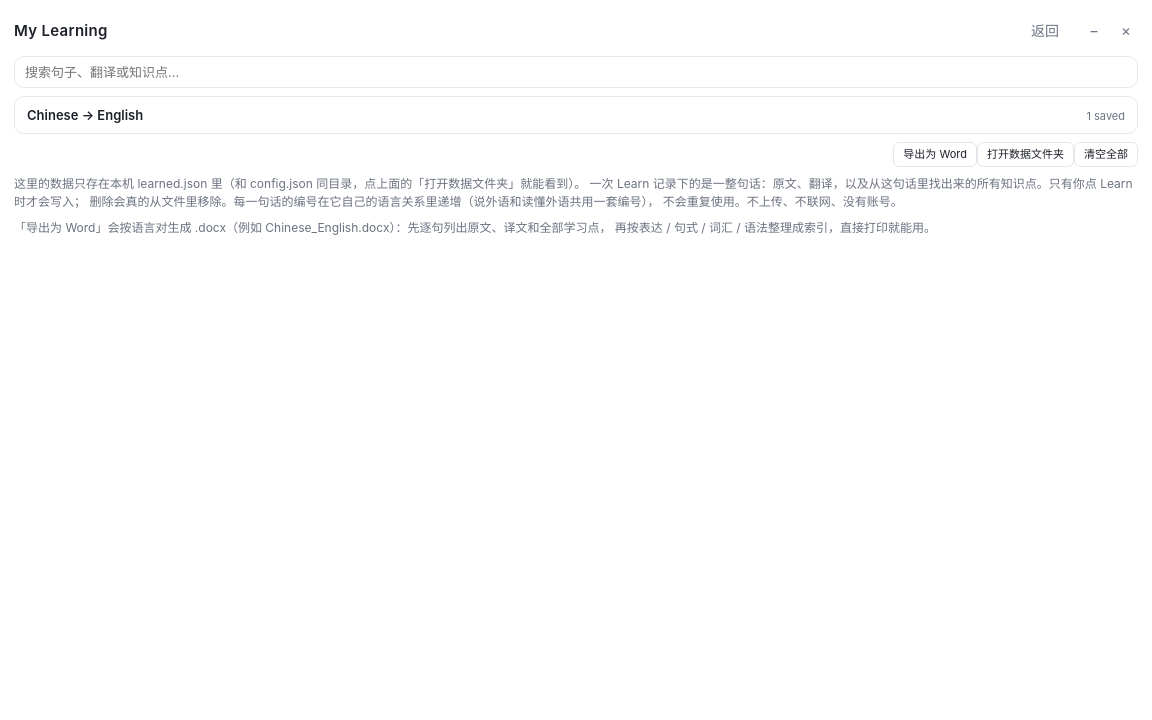
Scenario: MyLanguagePage: one pair › lets a long sentence be opened up without hiding anything for good
Expected: the text "Chinese → English" is shown, [27,107,143,123]
Click the button "Chinese → English 1 saved" at (85, 115), box [14,96,1138,134]
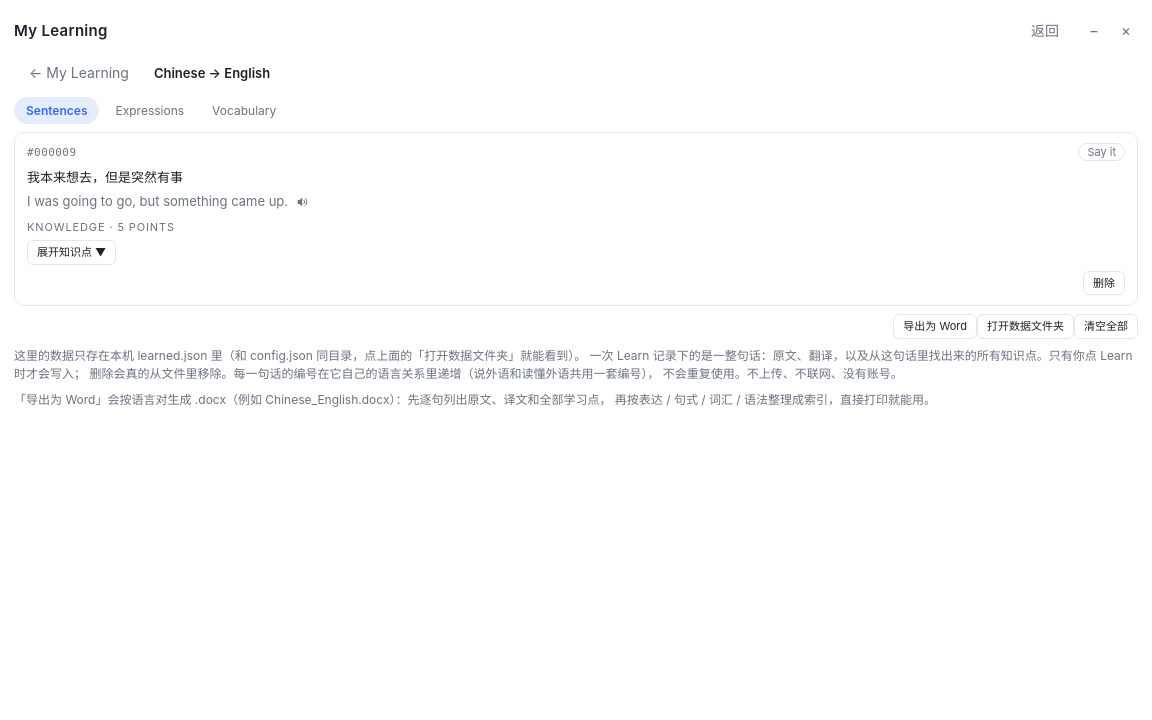
Expected: the text "KNOWLEDGE · 5 points" is shown, [27,220,175,234]
Click the button "展开知识点 ▼" at (72, 252), box [27,240,116,265]
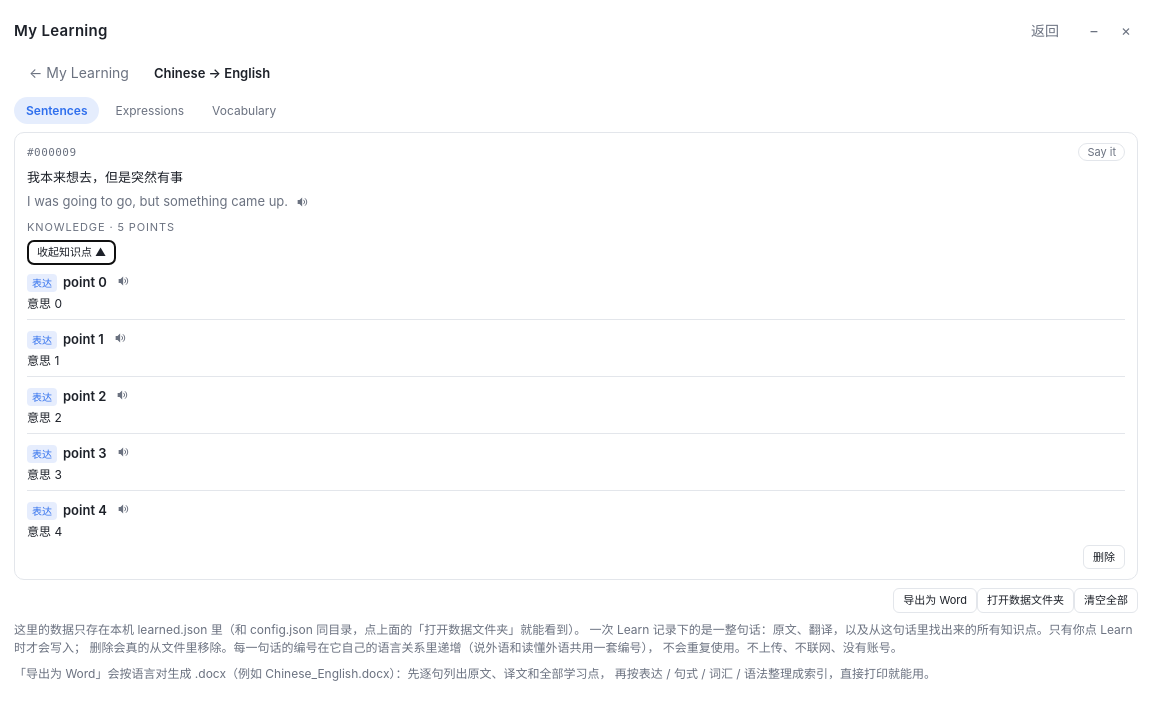
Expected: the number of list items with class "analysis__item" is 5, [27,271,133,311]; [27,319,1125,368]; [27,376,1125,425]; [27,433,1125,482]; [27,490,1125,539]
Click the button "收起知识点 ▲" at (72, 252), box [27,240,116,265]
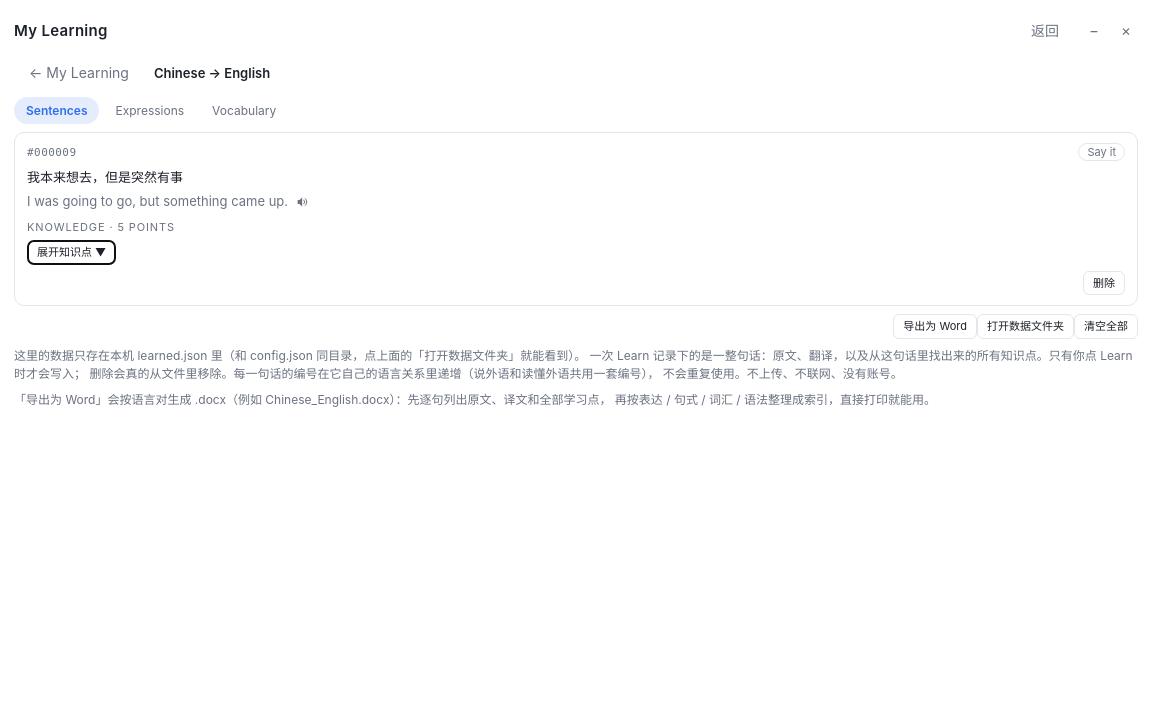
Expected: the text "KNOWLEDGE · 5 points" is shown, [27,220,175,234]
Expected: no list items with class "analysis__item" are shown
